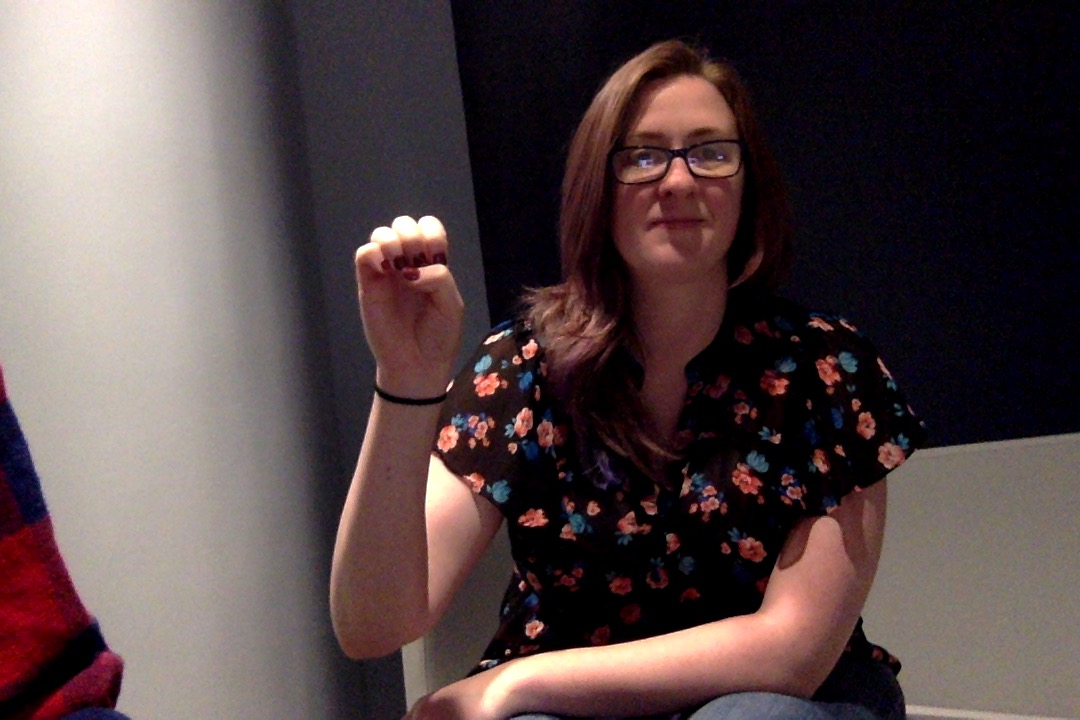e: (341, 197, 478, 434)
